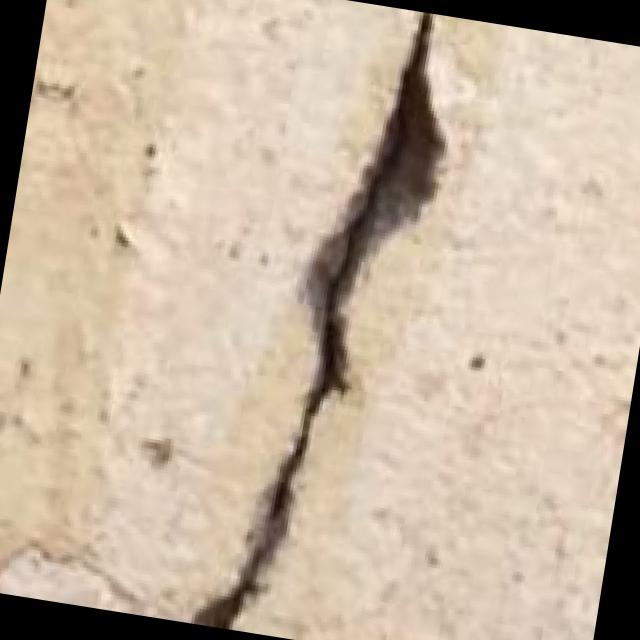crack: (144, 0, 540, 640)
